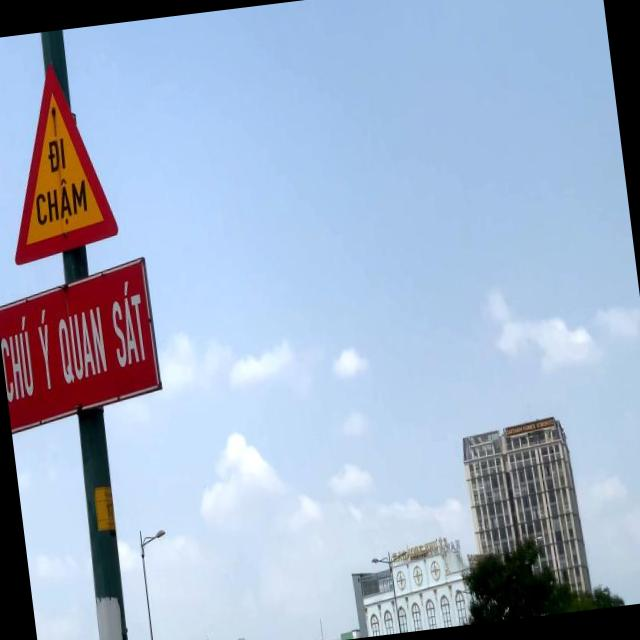W-245a: (0, 55, 121, 265)
